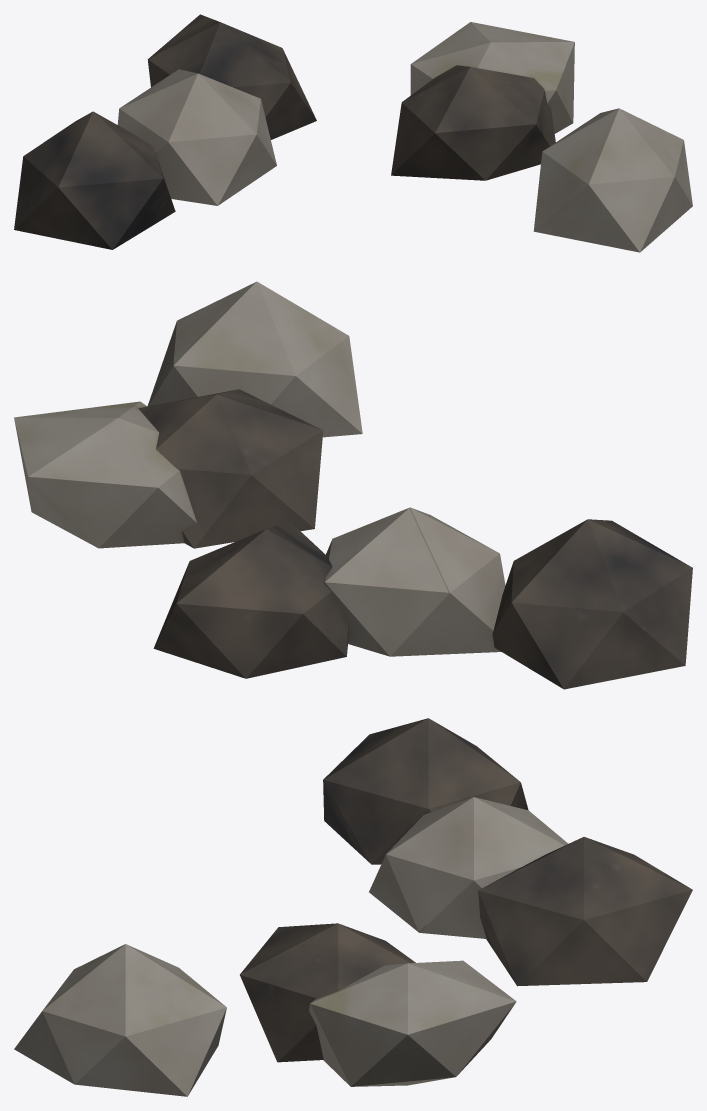
Rendered from jazida_carvao.glb.
3 renders of one model, top to bottom at view 1: azimuth 30°, elevation 25°; view 2: azimuth 150°, elevation 25°; view 3: azimuth 270°, elevation 25°, orthographic. The views are drawn at different scales.
Visible parts, largest first — view 1: jazida_carvao; view 2: jazida_carvao; view 3: jazida_carvao.
Boxes of the visible parts, x1,y1,x2,y2 form: jazida_carvao: (14,14,692,252); jazida_carvao: (14,281,692,689); jazida_carvao: (14,718,692,1096).
Bounding box in the file's own units: 0.54 × 0.1166 × 0.4909.
Materials: 1 (1 with a texture image).
